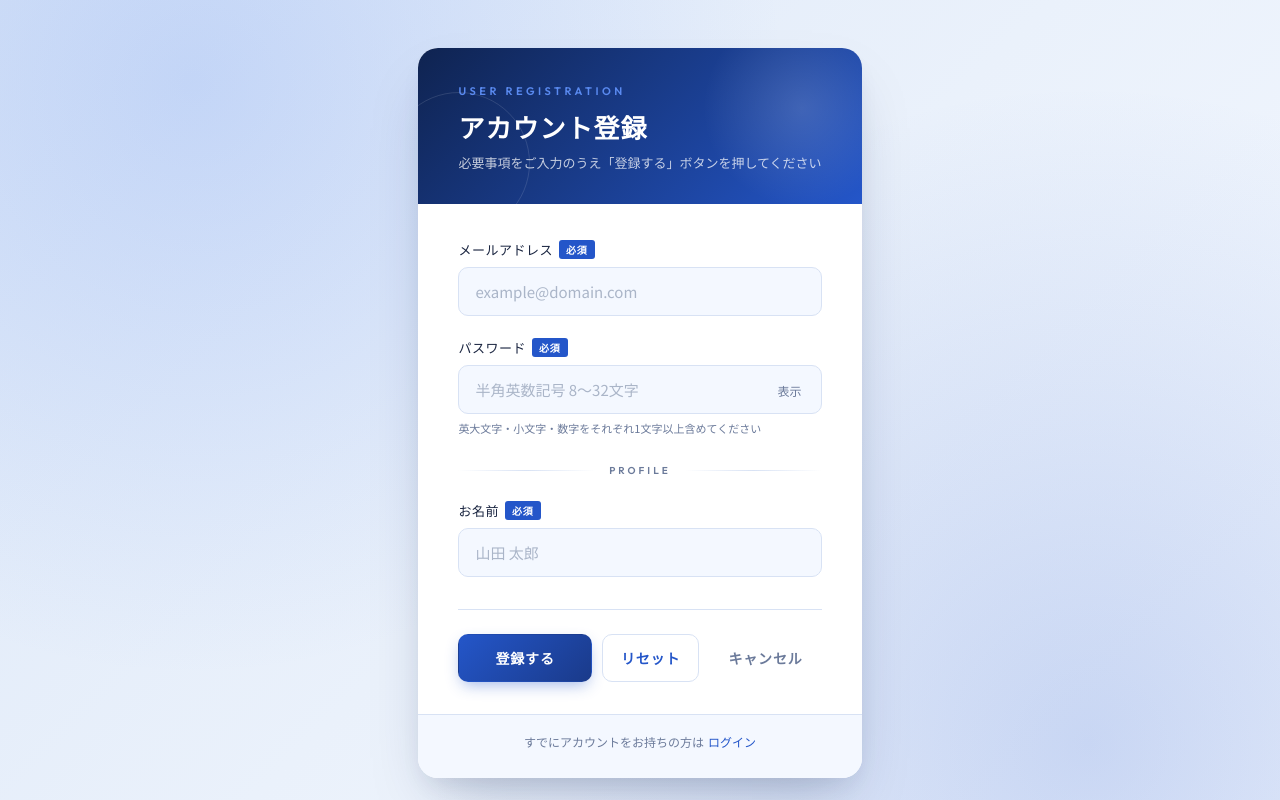
Test: Register › フォーカスアウト時にバリデーションが走り対象のエラーが出る
The width and height of the screenshot is (1280, 800).
Click the field labelled "メールアドレス 必須" at (640, 292), box [458,267,822,316]
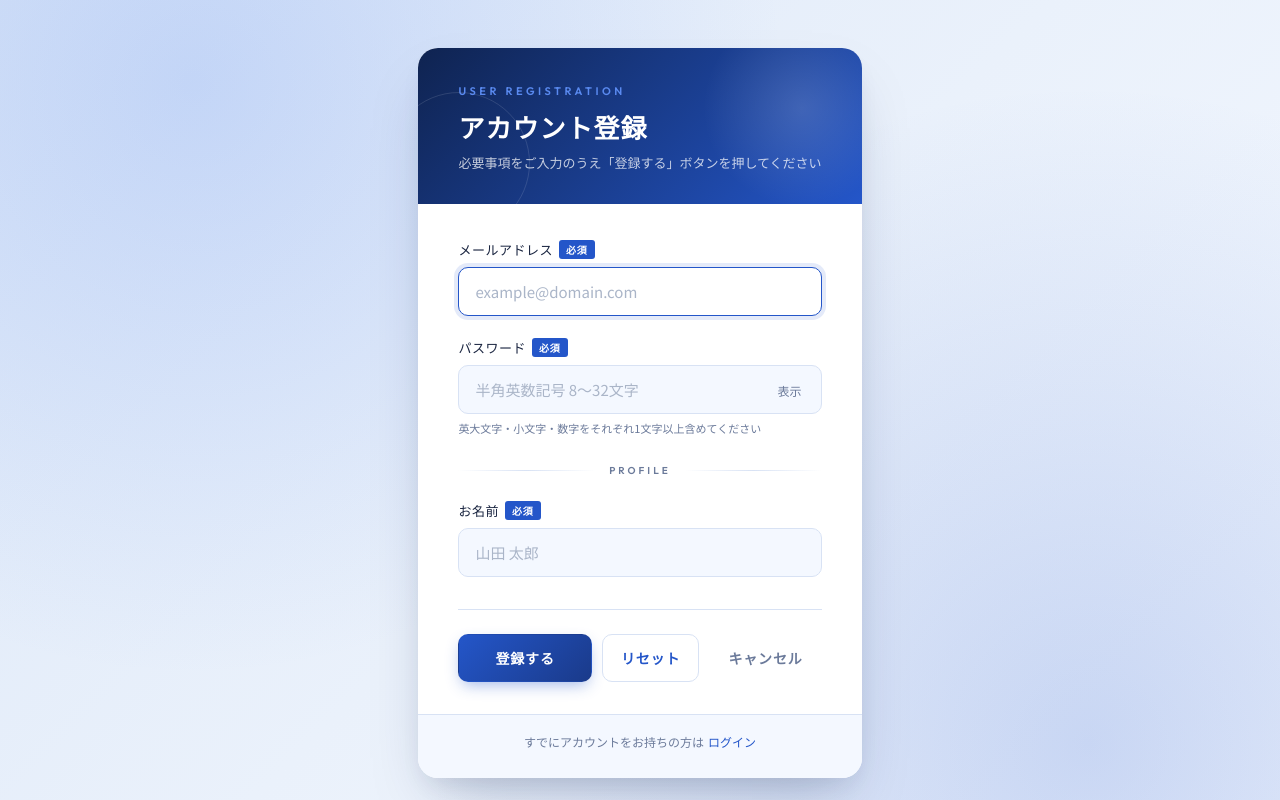
Press Tab
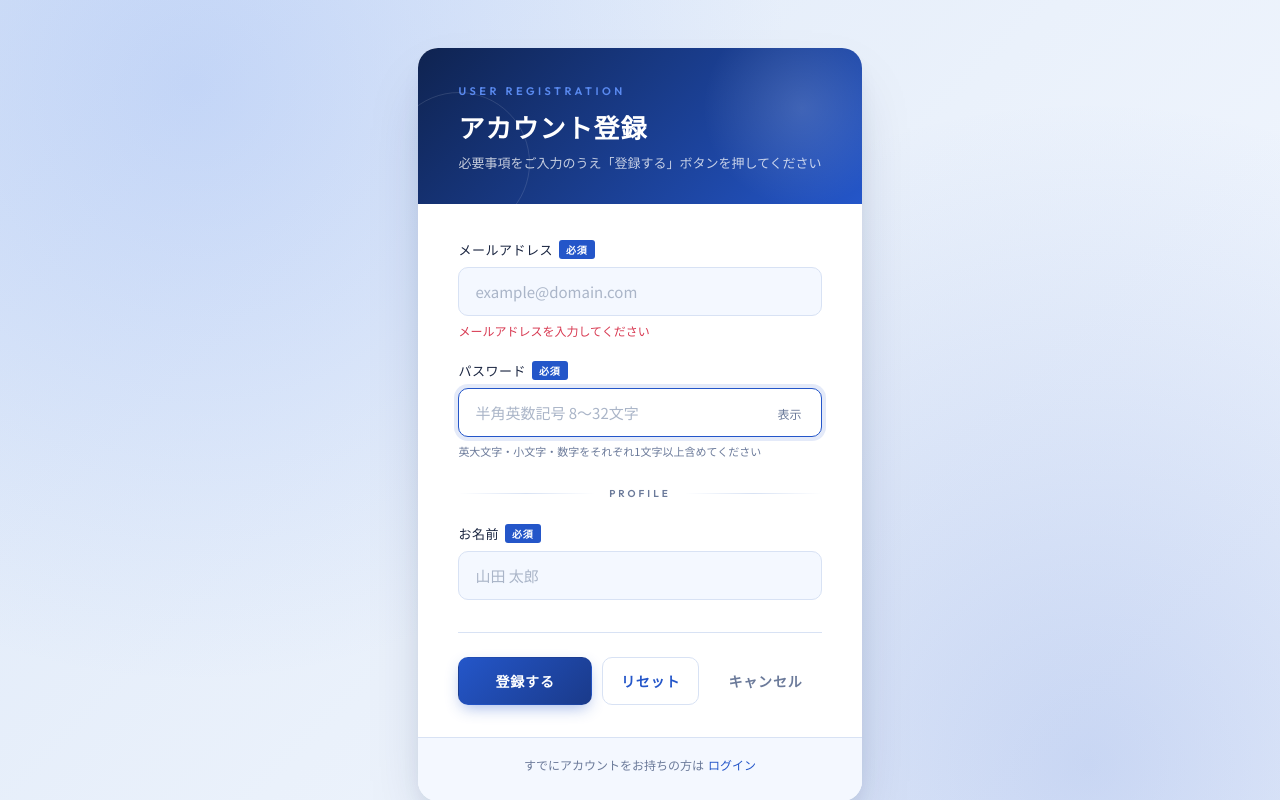
Result: the text "メールアドレスを入力してください" is shown at [458,322,650,339]
